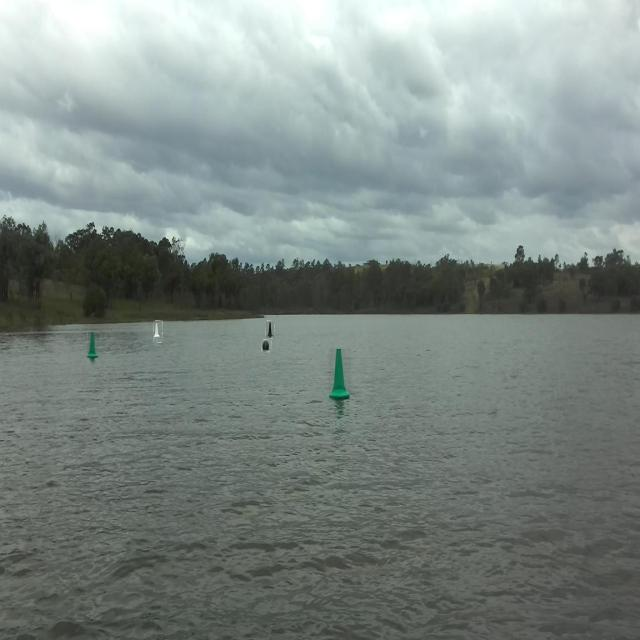Black_Buoy: (263, 318, 279, 344), (259, 336, 275, 358)
Green_Buoy: (325, 346, 357, 413), (87, 328, 99, 372)
White_Buoy: (144, 320, 166, 350)
